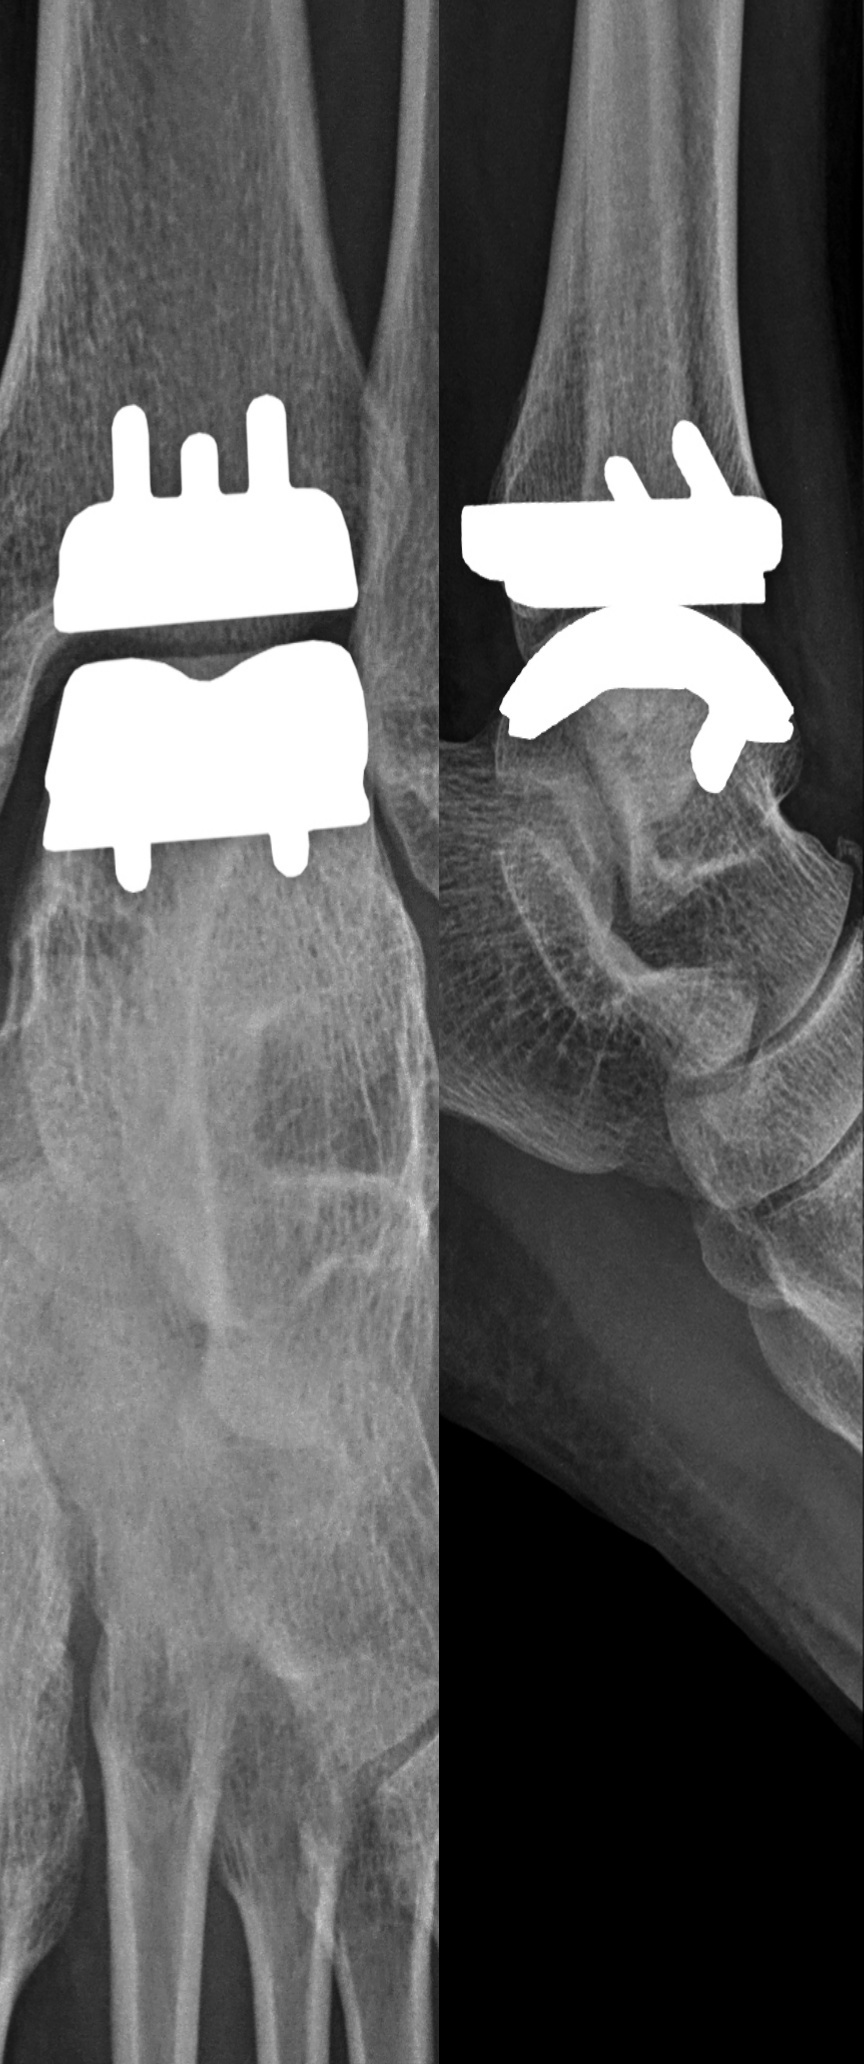Ankle - Infinity - Wright: (14, 382, 396, 900), (440, 413, 809, 808)
